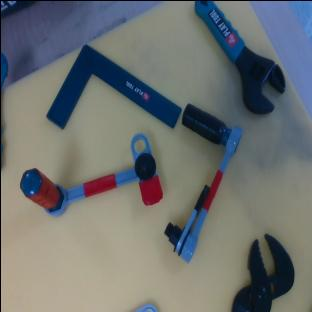non_pass: (131, 102, 245, 262)
pass: (13, 130, 164, 234)
